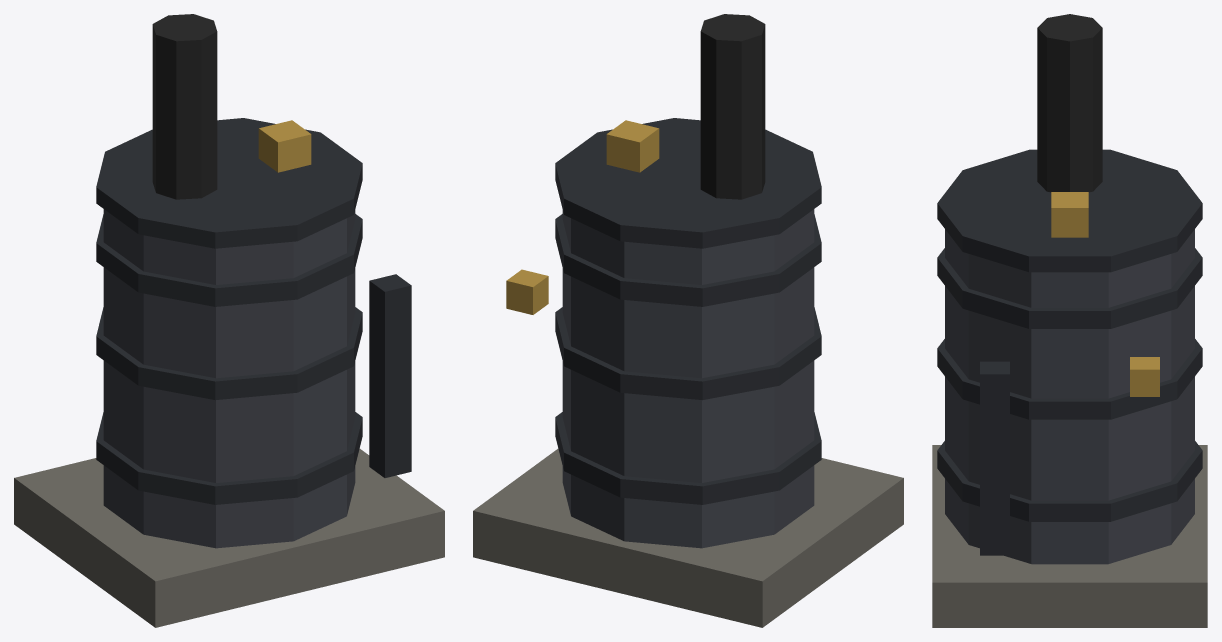
Rendered from boiler_large.glb.
3 renders of one model, left to right at view 1: azimuth 30°, elevation 25°; view 2: azimuth 150°, elevation 25°; view 3: azimuth 270°, elevation 25°, orthographic. The views are drawn at different scales.
Parts seen in each view (by area): view 1: Cylinder, Cube, Cylinder.004, Cylinder.005, Cube.002, Cylinder.003, Cylinder.001, Cylinder.002, Cube.001; view 2: Cylinder, Cube, Cylinder.004, Cylinder.005, Cylinder.003, Cylinder.001, Cylinder.002, Cube.001, Cube.003; view 3: Cylinder, Cube, Cylinder.004, Cylinder.005, Cylinder.003, Cube.002, Cylinder.001, Cylinder.002, Cube.001, Cube.003.
Part boxes in pixels (x1,y1,x2,y2): Cylinder: (103,209,355,548); Cube: (14,449,444,627); Cylinder.004: (96,118,362,248); Cylinder.005: (152,14,217,199); Cube.002: (369,274,411,477); Cylinder.003: (96,214,362,306); Cylinder.001: (96,412,362,504); Cylinder.002: (96,307,362,400); Cube.001: (258,120,311,172); Cylinder: (562,209,814,548); Cube: (473,449,903,627); Cylinder.004: (555,118,821,248); Cylinder.005: (700,14,765,199); Cylinder.003: (555,214,821,306); Cylinder.001: (555,412,821,504); Cylinder.002: (555,307,821,400); Cube.001: (606,120,659,172); Cube.003: (506,269,548,314); Cylinder: (945,229,1194,564); Cube: (932,445,1207,627); Cylinder.004: (937,149,1202,272); Cylinder.005: (1037,14,1102,192); Cylinder.003: (937,248,1202,328); Cube.002: (980,361,1009,555); Cylinder.001: (937,441,1202,521); Cylinder.002: (937,339,1202,419); Cube.001: (1051,192,1088,237); Cube.003: (1130,357,1159,396).
Bounding box in the file's own units: 26 × 45 × 22.
